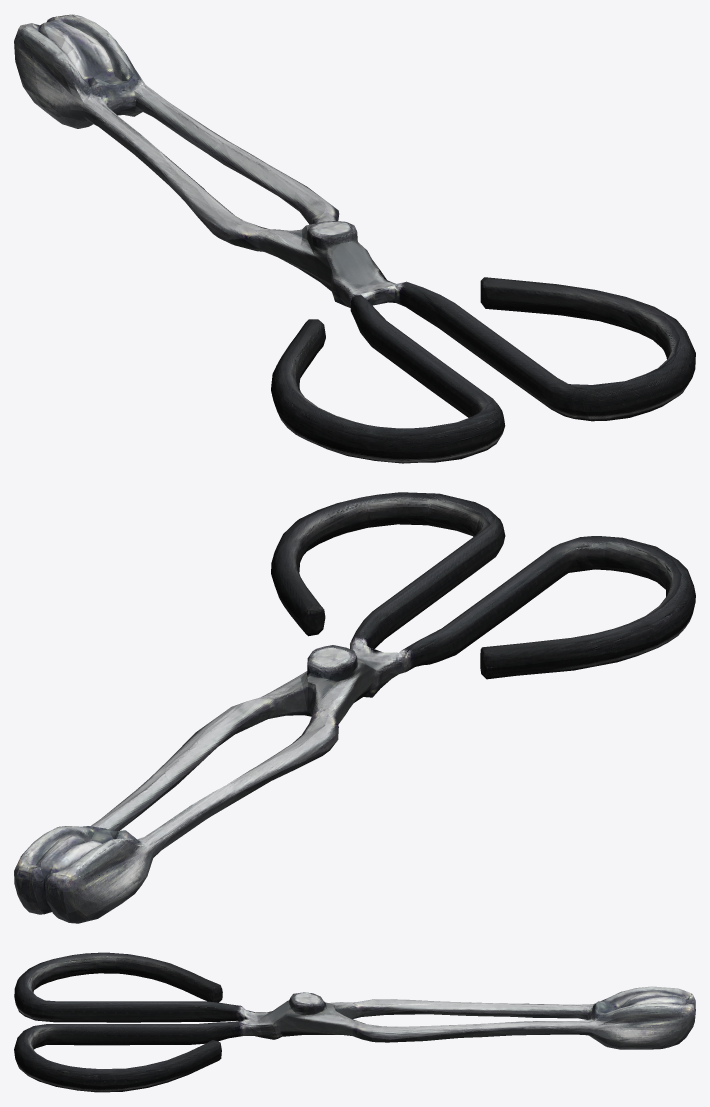
The model's file is Scissor Tongs.glb.
3 views of the same model, one above another, from view 1: azimuth 30°, elevation 25°; view 2: azimuth 150°, elevation 25°; view 3: azimuth 270°, elevation 25° (orthographic). The views are drawn at different scales.
Parts seen in each view (by area): view 1: world; view 2: world; view 3: world.
Part boxes in pixels (x1,y1,x2,y2): world: [14, 14, 695, 463]; world: [14, 492, 695, 923]; world: [14, 952, 695, 1092].
Bounding box in the file's own units: 0.4374 × 0.0729 × 1.
1 material, 1 textured.
